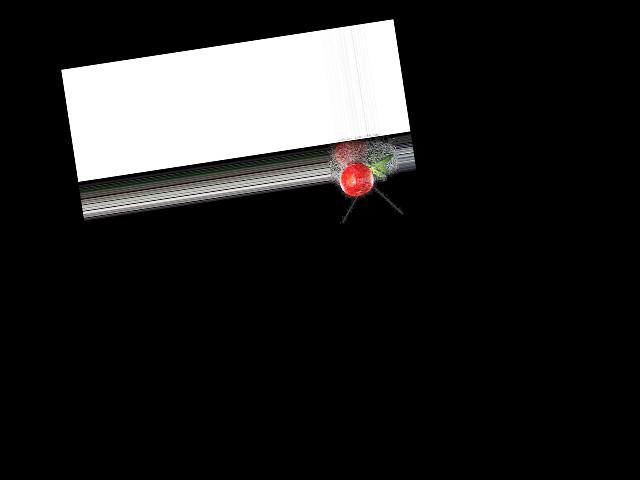tomato: (337, 161, 376, 198)
